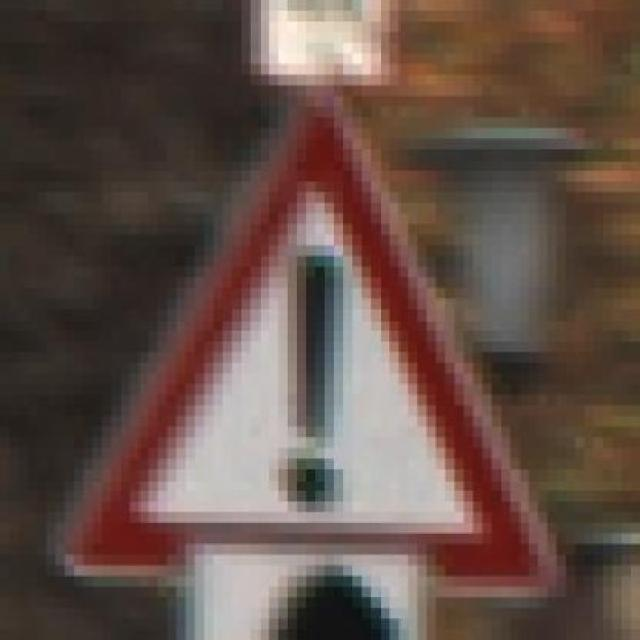Attention Please-: (32, 73, 562, 607)
